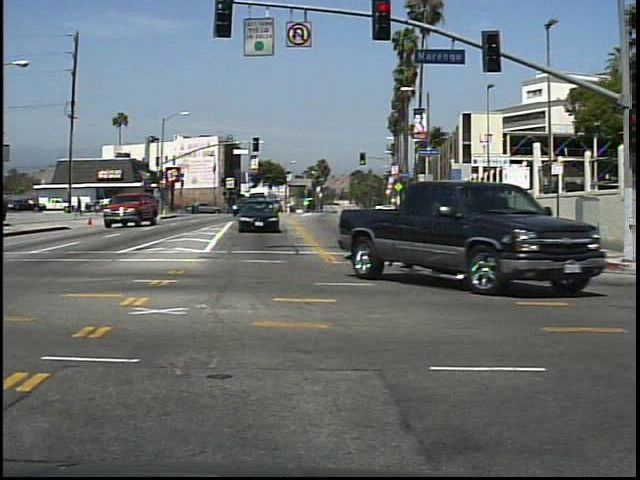person: (74, 194, 87, 219)
